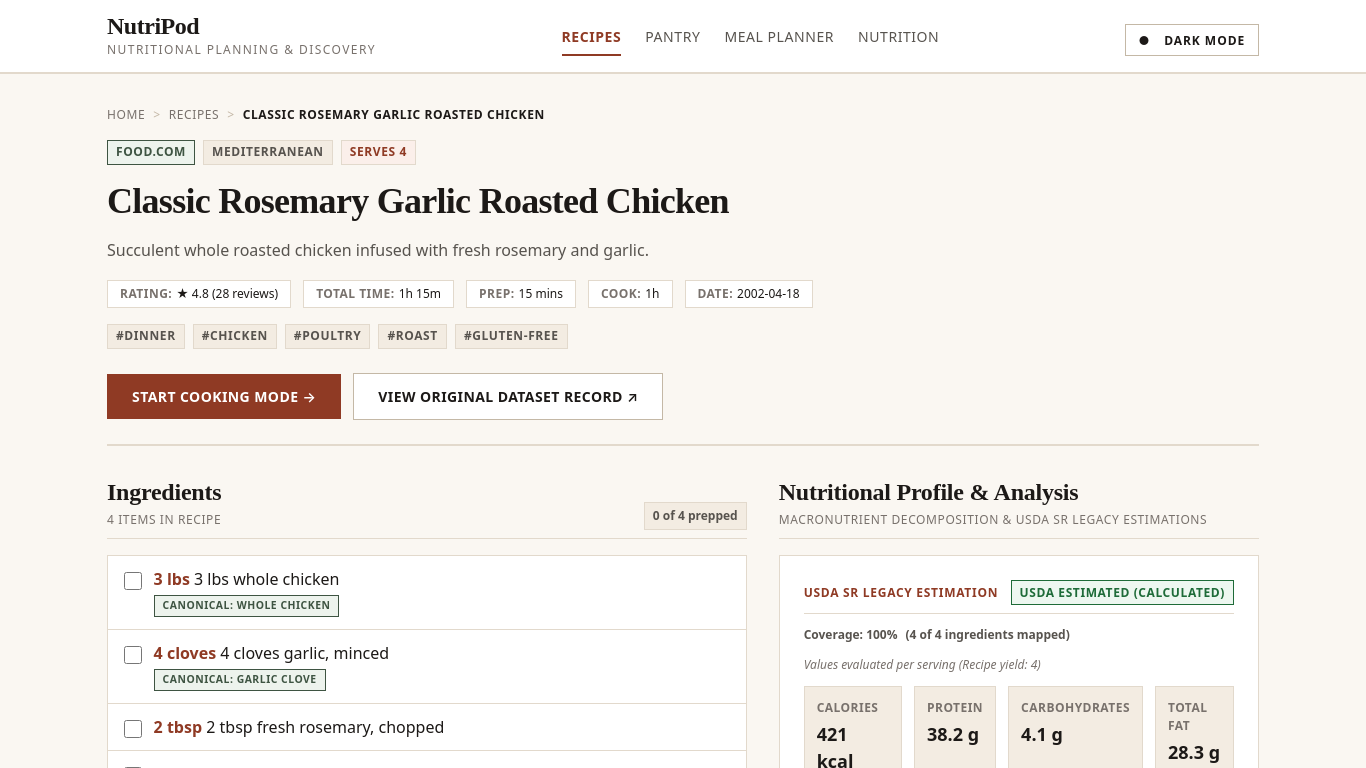
Test case: Recipe Details, Ingredients, Instructions & Cooking Mode (Step 05.3) › 17. entering cooking mode
Click the button with test id "enter-cooking-mode-btn" at (224, 396), box [107,374,341,418]
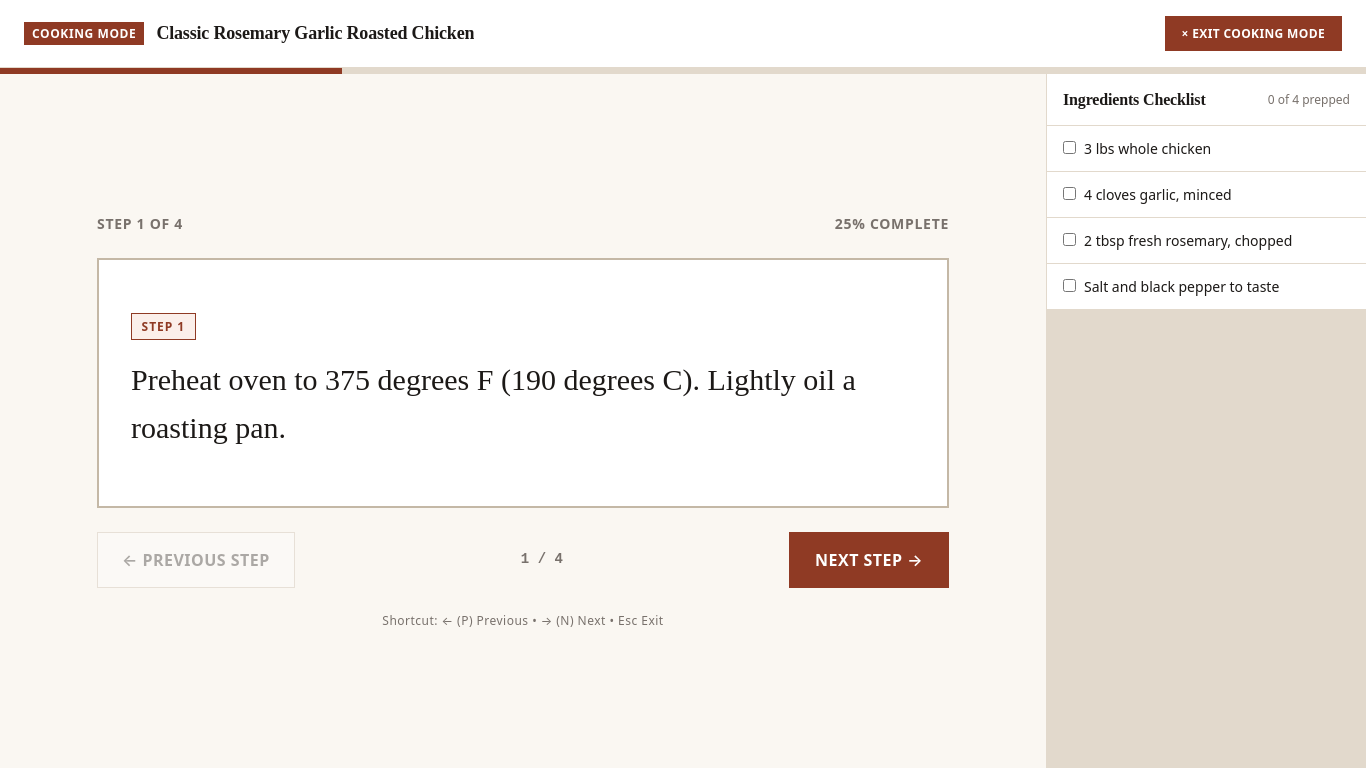
Now the element with test id "cooking-mode" is shown
